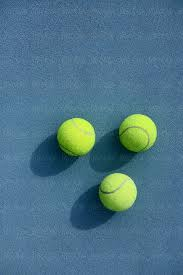tennis_ball: (56, 117, 96, 157), (98, 172, 137, 212), (118, 113, 157, 152)
